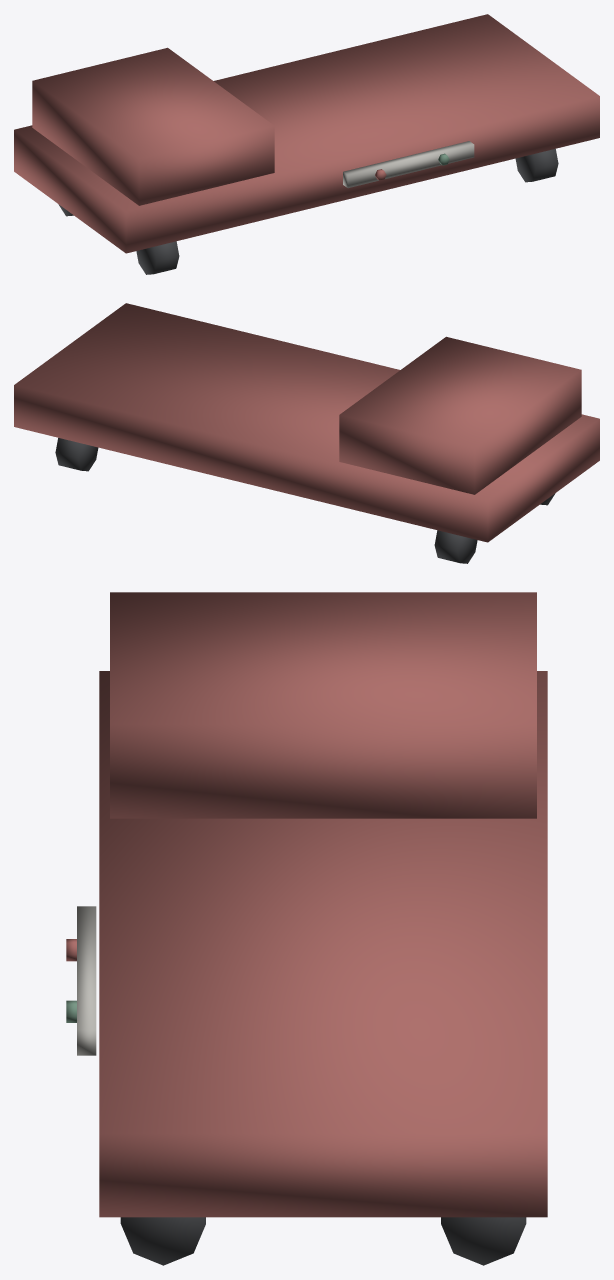
The model's file is mechanic_creeper__compact.glb.
3 views of the same model, one above another, from view 1: azimuth 30°, elevation 25°; view 2: azimuth 150°, elevation 25°; view 3: azimuth 270°, elevation 25° (orthographic). The views are drawn at different scales.
Parts seen in each view (by area): view 1: world; view 2: world; view 3: world.
Part boxes in pixels (x1,y1,x2,y2): world: (14,14,599,274); world: (14,303,599,563); world: (66,592,547,1265).
Bounding box in the file's own units: 0.882 × 0.2325 × 0.3879.
